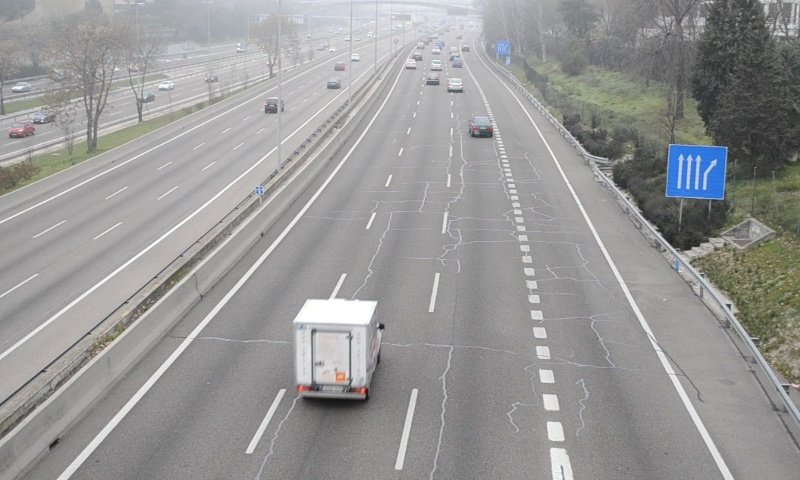car: (468, 114, 494, 138)
small-truck: (294, 298, 383, 401)
